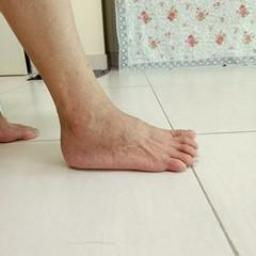Lateral View -Right Foot-: (36, 70, 232, 193)
